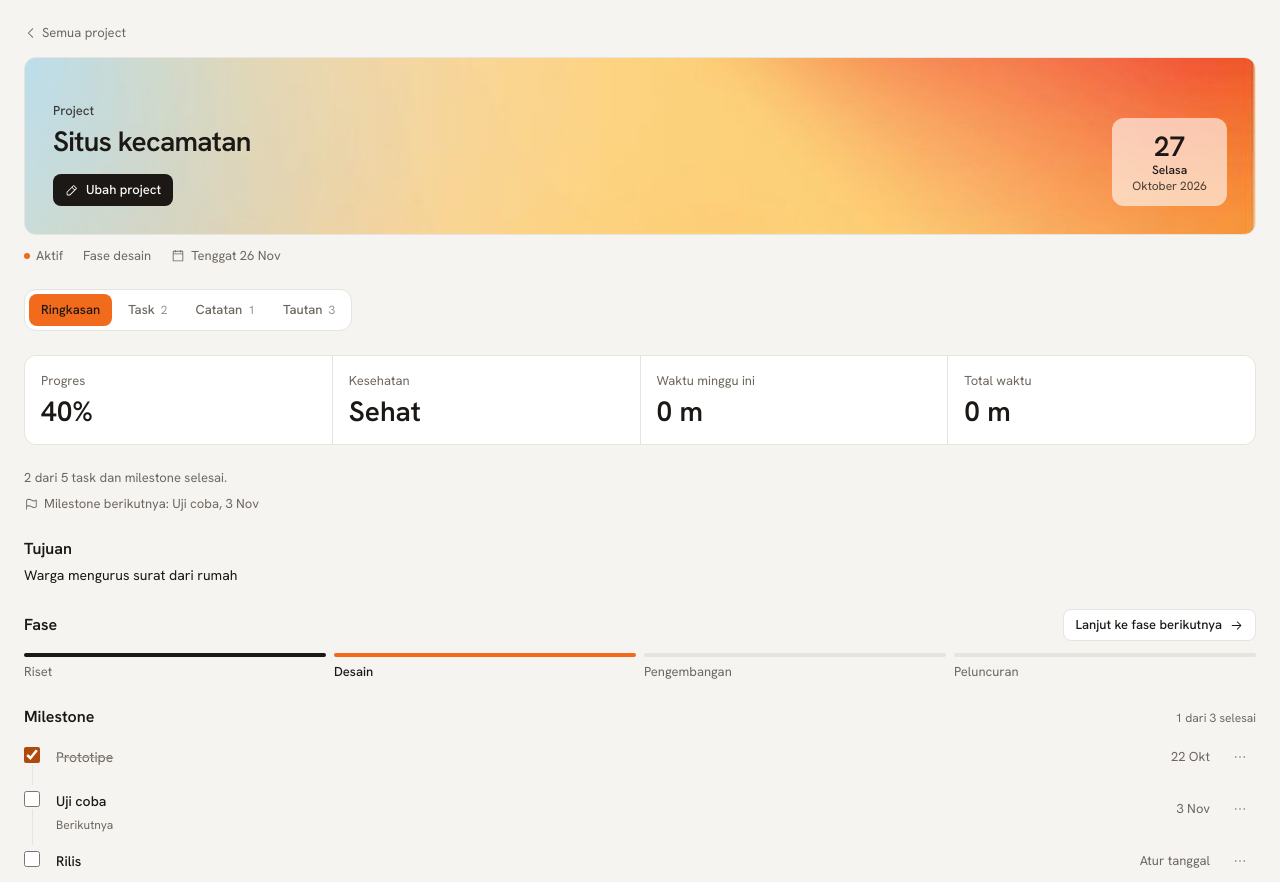
Test: Ringkasan › moves to the next phase with an undo, and the button goes away at the last phase
The image size is (1280, 882).
Click the button "Lanjut ke fase berikutnya" at (1159, 625), box 1062,609 -> 1256,641
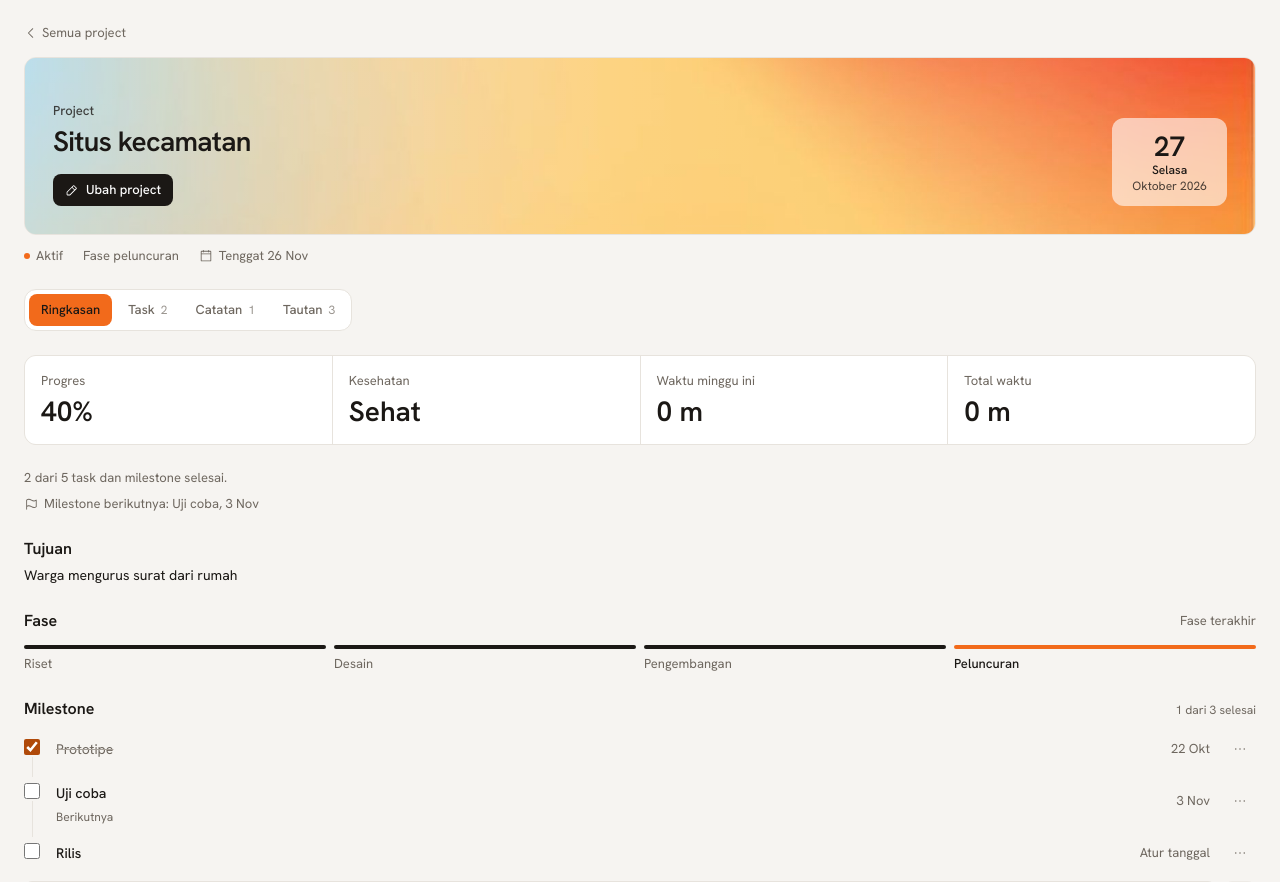
Expected: the button "Lanjut ke fase berikutnya" is gone
Expected: the text "Fase terakhir" is shown, 1180,612 -> 1256,630
